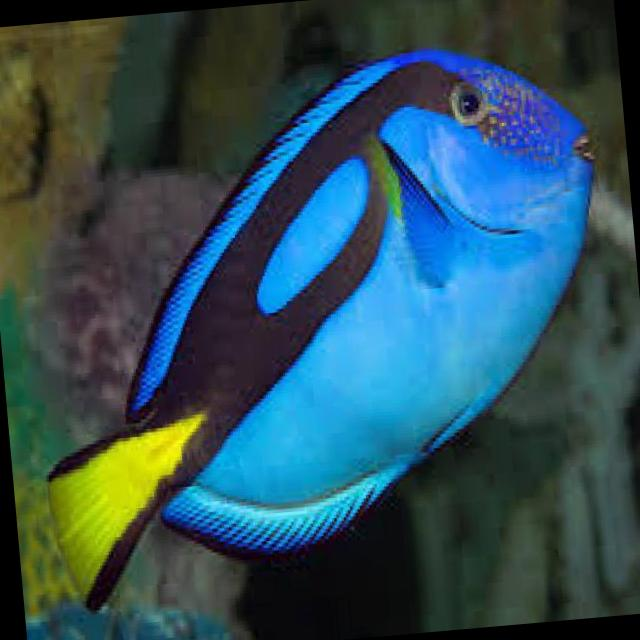TangFish: (4, 28, 635, 622)
